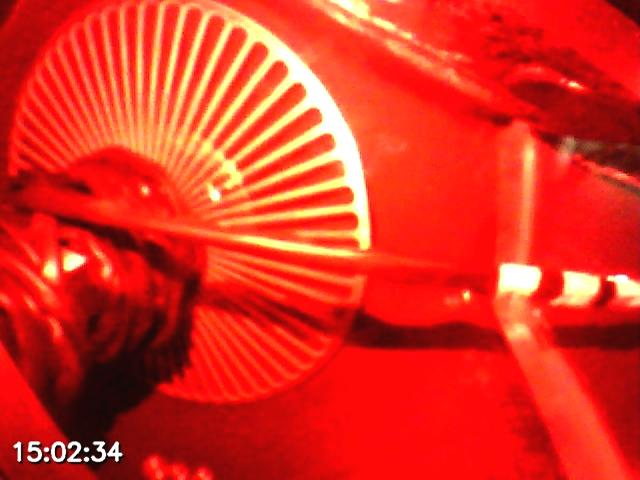white-dots: (495, 263, 640, 313)
